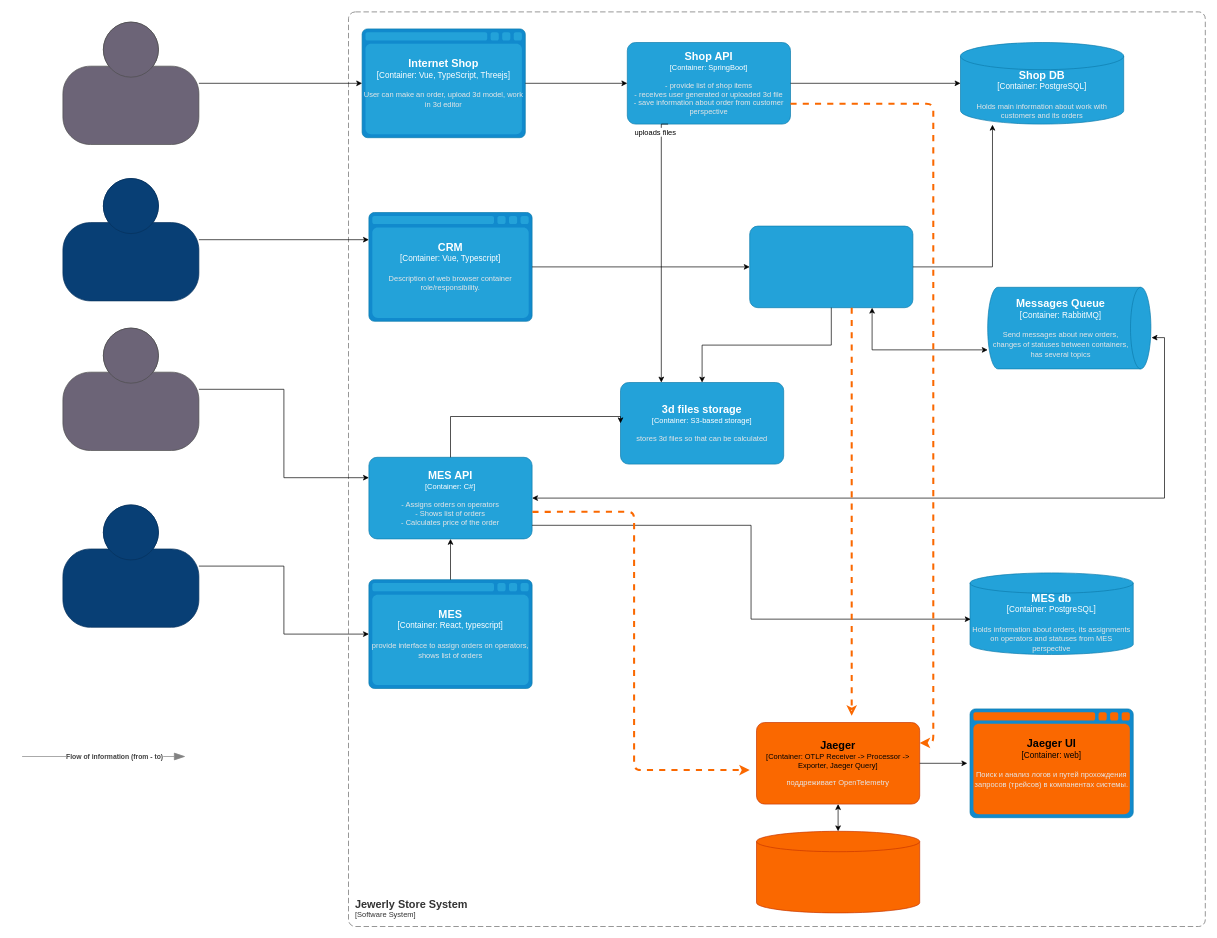
This 1217x938 diagram has some shape labels left out. The shapes that lost their labels are listed below. From the top down, each one's centre as x and y in pixels, then its label:
At pixel 130 82: "Customer [Person] Description of external person.".
At pixel 130 239: "Seller [Person] Operates with order, confirms manufacturing for the user".
At pixel 831 266: "CRM API [Container: SpringBoot] Description of container role/responsibility.".
At pixel 130 389: "API user [Person] Description of external person.".
At pixel 130 565: "Operator [Person] Takes order in work, manufactures jewerly".
At pixel 838 872: "Jaeger database [Container: Elasticsearch] Хранит трейсы".
